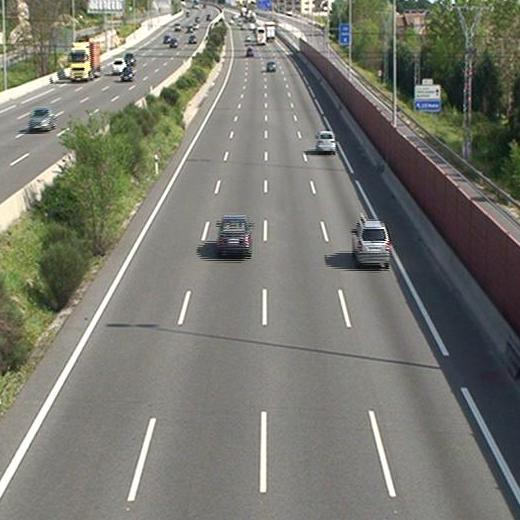car: (352, 220, 390, 264), (218, 218, 250, 256), (315, 132, 334, 152), (266, 61, 276, 71)
